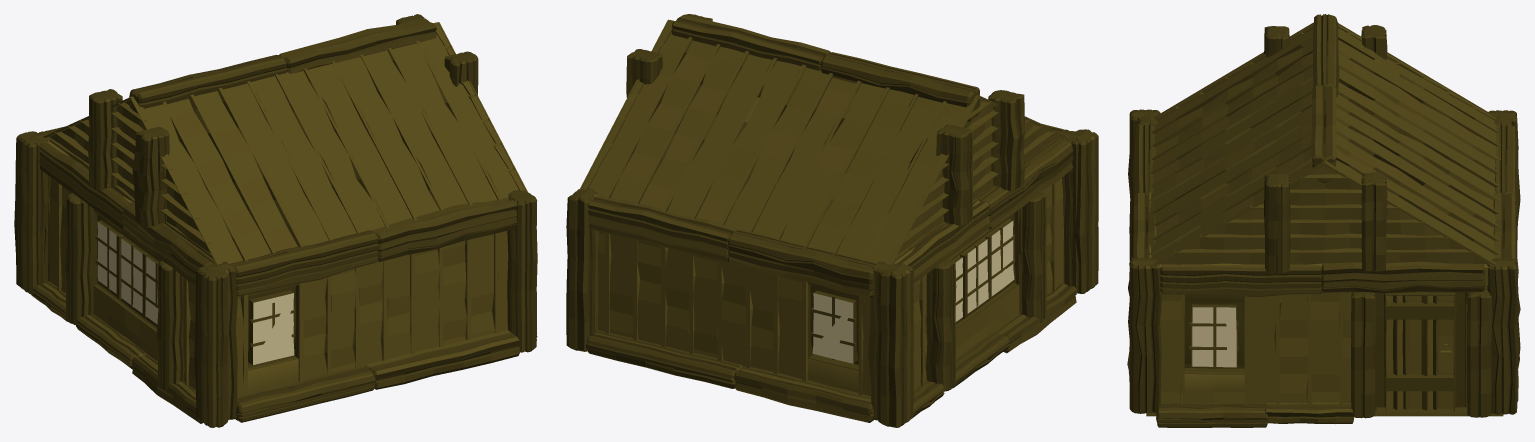
File: InteriorCasaDos.fbx
The picture shows the model from 3 angles, left to right: view 1: azimuth 30°, elevation 25°; view 2: azimuth 150°, elevation 25°; view 3: azimuth 270°, elevation 25°; orthographic projection. The views are drawn at different scales.
Parts seen in each view (by area): view 1: Casa_2, Viga_Madera1 (×4), Viga_Madera3 (×2), Viga_Madera2 (×2), Viga_Madera10 (×2), Viga_Madera11 (×2), Viga_Madera, Viga_Madera7 (×2), Viga_Madera13, Viga_Madera8, Viga_Madera14, Viga_Madera9 (+2 smaller); view 2: Casa_2, Viga_Madera (×2), Viga_Madera3 (×2), Viga_Madera2 (×2), Viga_Madera1 (×3), Viga_Madera11 (×2), Viga_Madera10 (×2), Viga_Madera6 (×2), Viga_Madera14, Viga_Madera8, Viga_Madera13, Viga_Madera9 (+2 smaller); view 3: Casa_2, Viga_Madera3 (×3), Viga_Madera2 (×3), Viga_Madera1 (×2), Viga_Madera (×2), Viga_Madera7 (×2), Viga_Madera6 (×2), Viga_Madera9, Viga_Madera8, Viga_Madera11, Viga_Madera13, Viga_Madera14 (+3 smaller).
Part boxes in pixels (x1=…): Casa_2: x1=43, y1=22, x2=527, y2=396; Viga_Madera1 (×4): x1=30, y1=130, x2=537, y2=427; Viga_Madera3 (×2): x1=121, y1=202, x2=378, y2=296; Viga_Madera2 (×2): x1=39, y1=138, x2=517, y2=261; Viga_Madera10 (×2): x1=76, y1=314, x2=519, y2=389; Viga_Madera11 (×2): x1=132, y1=354, x2=375, y2=423; Viga_Madera: x1=14, y1=131, x2=48, y2=294; Viga_Madera7 (×2): x1=132, y1=51, x2=478, y2=227; Viga_Madera13: x1=279, y1=18, x2=436, y2=73; Viga_Madera8: x1=64, y1=193, x2=96, y2=325; Viga_Madera14: x1=129, y1=55, x2=287, y2=122; Viga_Madera9: x1=156, y1=261, x2=184, y2=390; Casa_2: x1=579, y1=19, x2=1068, y2=396; Viga_Madera (×2): x1=566, y1=187, x2=913, y2=427; Viga_Madera3 (×2): x1=727, y1=138, x2=1073, y2=297; Viga_Madera2 (×2): x1=587, y1=194, x2=989, y2=283; Viga_Madera1 (×3): x1=868, y1=129, x2=1098, y2=420; Viga_Madera11 (×2): x1=734, y1=283, x2=1076, y2=422; Viga_Madera10 (×2): x1=586, y1=330, x2=1009, y2=388; Viga_Madera6 (×2): x1=626, y1=49, x2=973, y2=225; Viga_Madera14: x1=820, y1=52, x2=980, y2=121; Viga_Madera8: x1=926, y1=258, x2=956, y2=391; Viga_Madera13: x1=671, y1=15, x2=830, y2=70; Viga_Madera9: x1=1016, y1=192, x2=1046, y2=322; Casa_2: x1=1146, y1=22, x2=1503, y2=416; Viga_Madera3 (×3): x1=1135, y1=124, x2=1517, y2=297; Viga_Madera2 (×3): x1=1133, y1=193, x2=1515, y2=293; Viga_Madera1 (×2): x1=1128, y1=109, x2=1161, y2=413; Viga_Madera (×2): x1=1487, y1=110, x2=1520, y2=414; Viga_Madera7 (×2): x1=1264, y1=26, x2=1290, y2=273; Viga_Madera6 (×2): x1=1361, y1=25, x2=1387, y2=271; Viga_Madera9: x1=1351, y1=292, x2=1376, y2=418; Viga_Madera8: x1=1467, y1=290, x2=1492, y2=417; Viga_Madera11: x1=1156, y1=402, x2=1267, y2=427; Viga_Madera13: x1=1311, y1=85, x2=1336, y2=183; Viga_Madera14: x1=1313, y1=14, x2=1339, y2=97.
Bounding box in the file's own units: 17.84 × 13.44 × 17.98.
